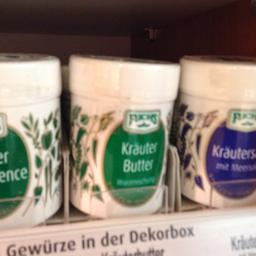spices: (62, 52, 180, 218), (176, 52, 255, 202), (0, 52, 62, 228)
